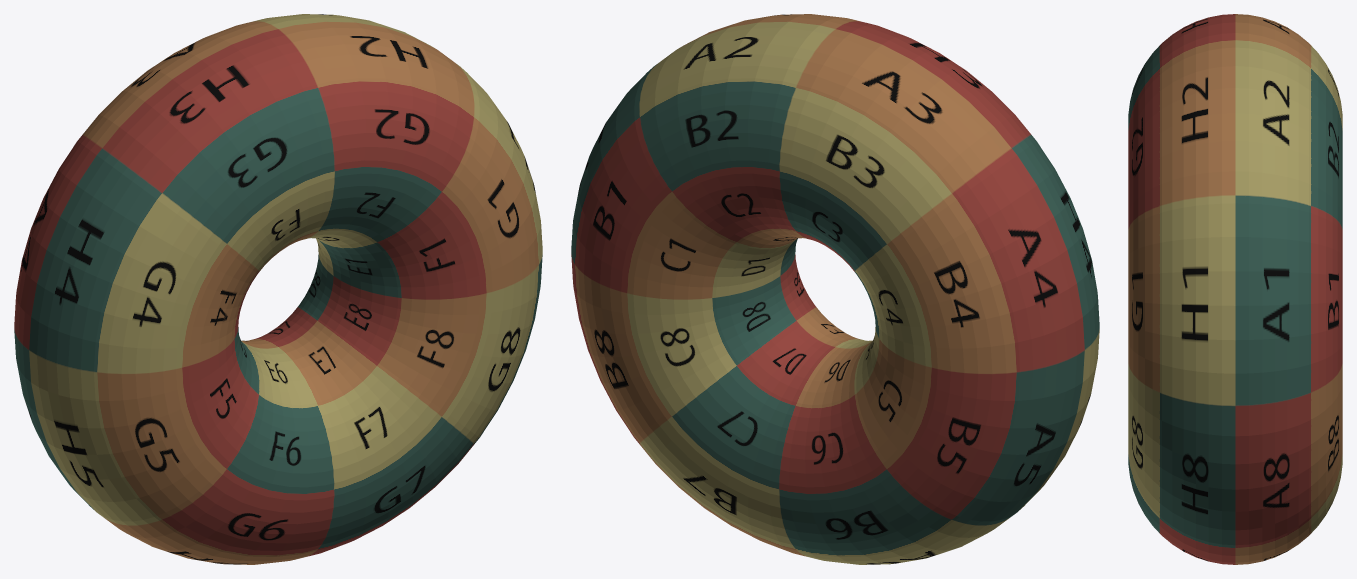
File: texture_torus_R6_r26.glb
The picture shows the model from 3 angles, left to right: view 1: azimuth 30°, elevation 25°; view 2: azimuth 150°, elevation 25°; view 3: azimuth 270°, elevation 25°; orthographic projection. The views are drawn at different scales.
Parts seen in each view (by area): view 1: world; view 2: world; view 3: world.
Boxes of the visible parts, left/top/right/bottom form: world: left=14, top=14, right=542, bottom=564; world: left=571, top=14, right=1099, bottom=564; world: left=1128, top=14, right=1342, bottom=564.
Bounding box in the file's own units: 22.93 × 22.89 × 8.92.
1 material, 1 textured.
